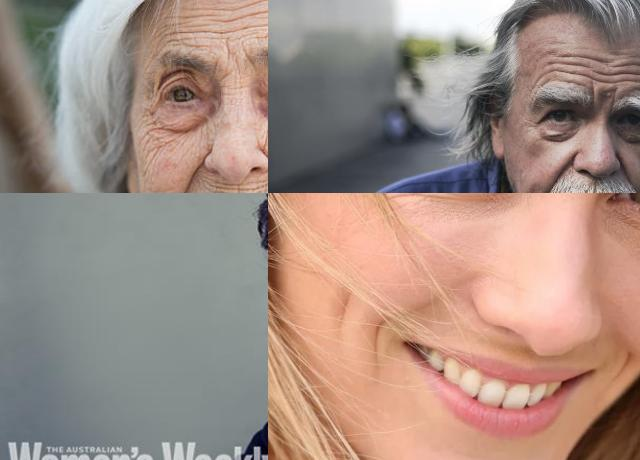bunny_line: (256, 127, 268, 153)
crows_feet: (141, 98, 157, 139), (522, 112, 538, 134)
forehead: (550, 52, 590, 88), (217, 8, 255, 38), (162, 13, 198, 44), (598, 55, 624, 92), (629, 55, 640, 93)
frown_line: (219, 44, 255, 72), (609, 88, 619, 112), (588, 87, 598, 107)
gummy_smile: (179, 154, 208, 193), (549, 156, 573, 190), (614, 154, 632, 186)
masseter: (332, 285, 352, 335)
sad_smile: (369, 310, 389, 376), (608, 346, 630, 394)
smoker_lines: (217, 183, 260, 193)
